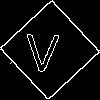V: (25, 25, 60, 72)
